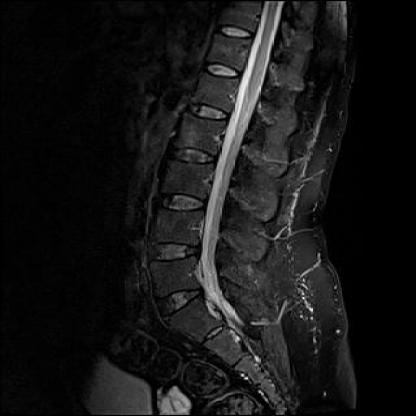Disc Bulgerotation: (153, 286, 214, 323), (142, 237, 205, 264)
